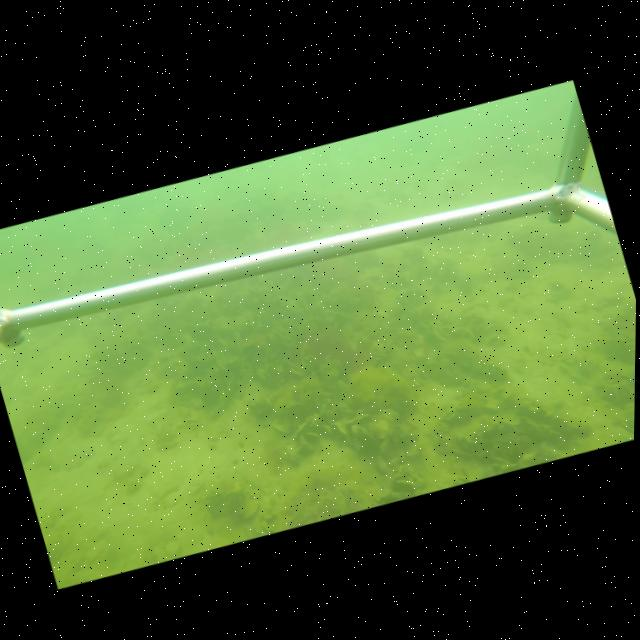Oyster-Indeterminate: (331, 420, 351, 441), (271, 422, 291, 435), (287, 366, 304, 377)
Oyster-Open: (426, 428, 447, 448), (300, 431, 320, 452)
